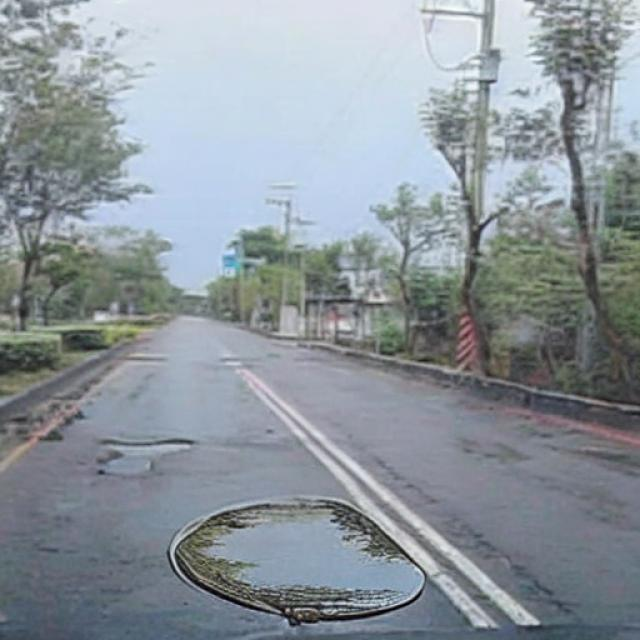puddle: (175, 497, 428, 622)
